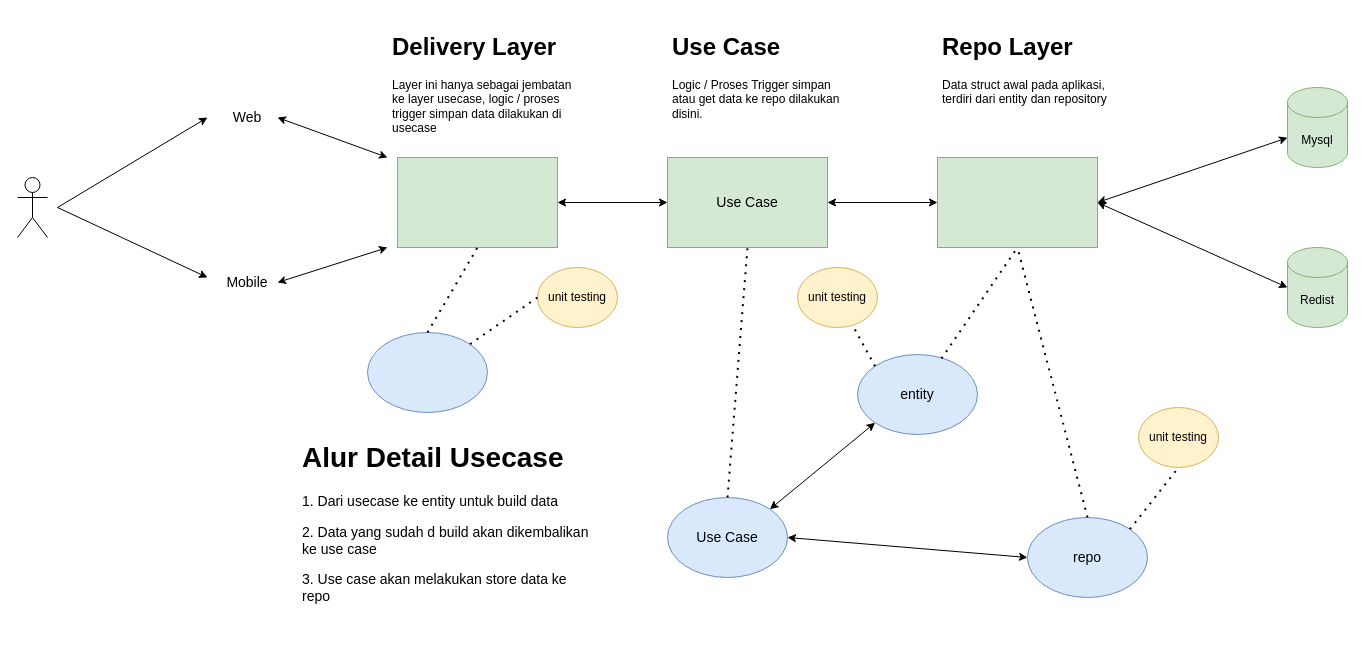
Image size: 1365x659. Some labels were removed from this diagram. Here are the shapes that lost their labels. From the top down, the centre of each, then its label:
At (32,207): "User".
At (477,202): "Delivery Layer".
At (1017,202): "Repo Layer".
At (427,372): "Handler".
